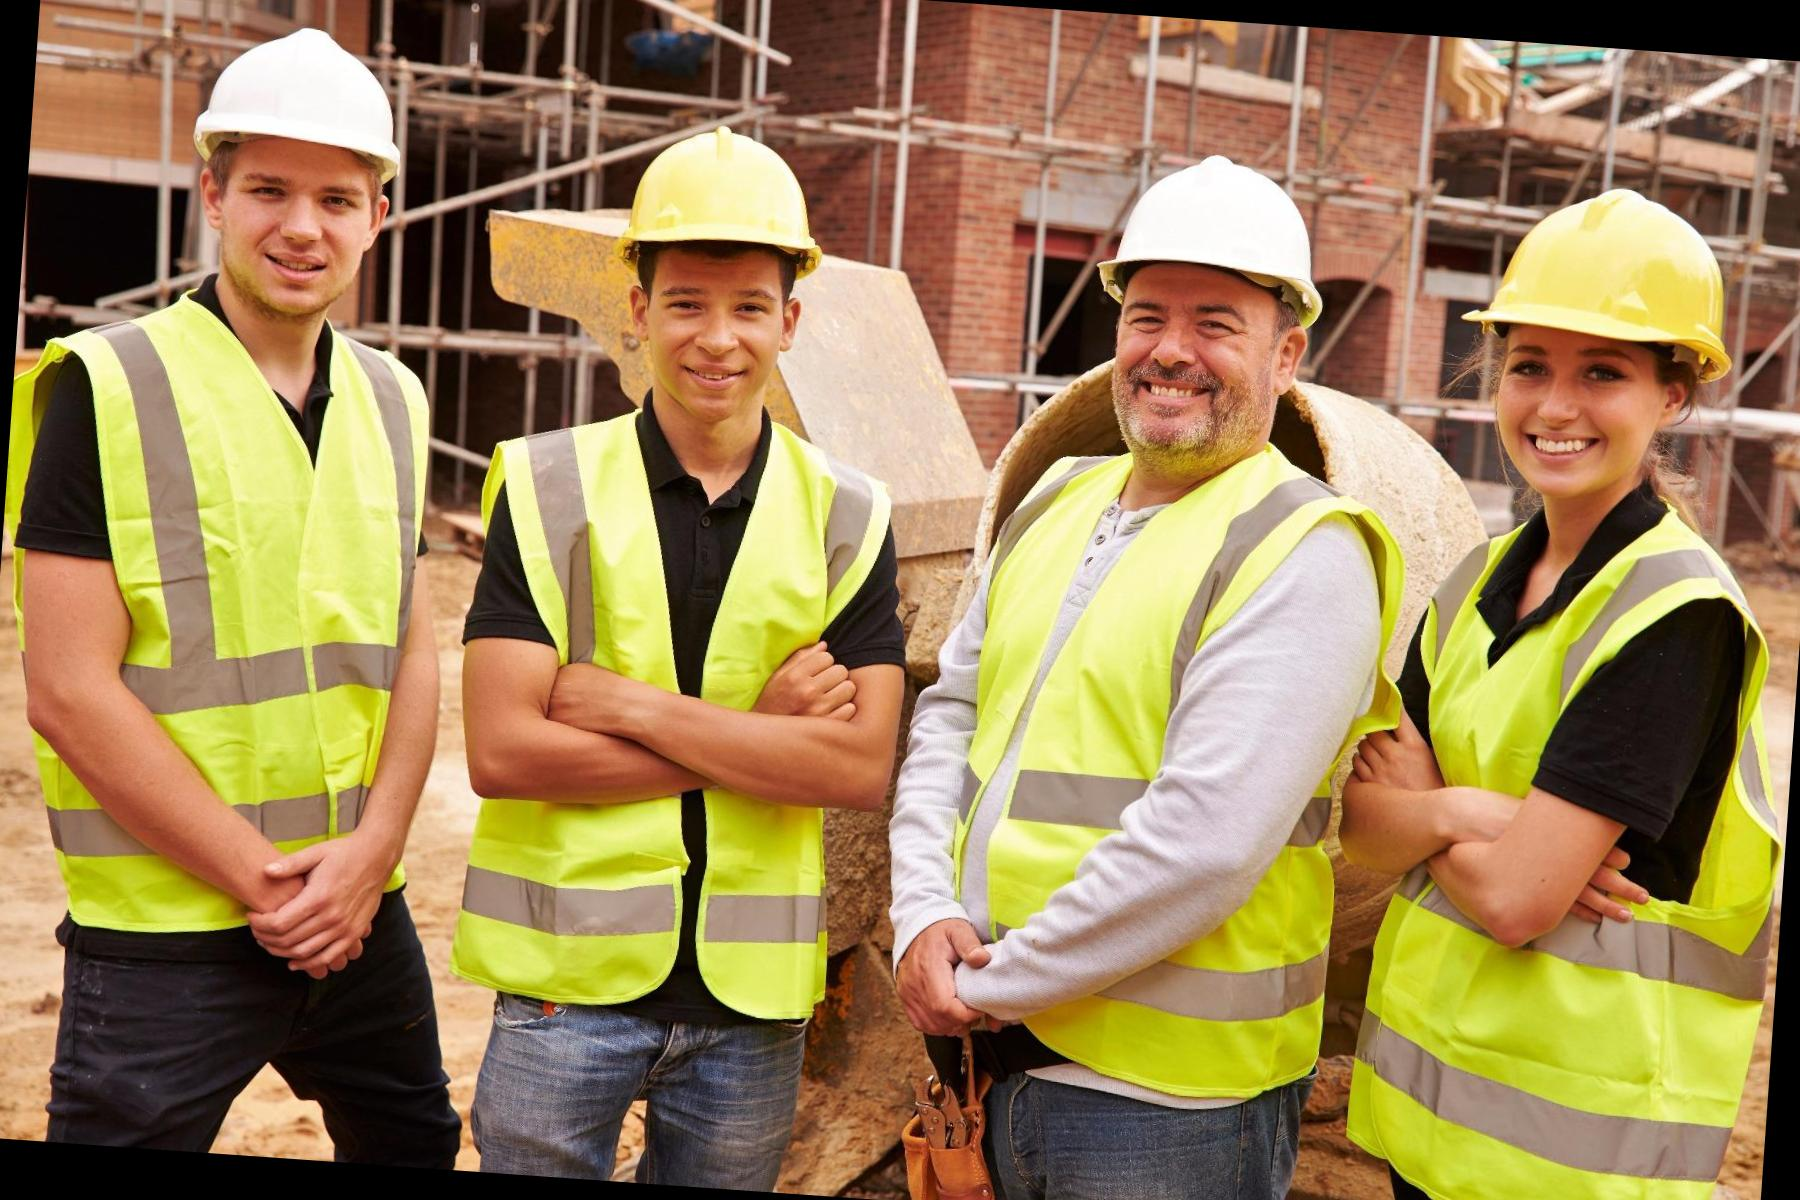Helmet: (1461, 171, 1757, 374), (1089, 150, 1337, 316), (181, 20, 430, 185), (604, 126, 841, 287)
Vest: (0, 269, 457, 976), (1371, 493, 1800, 1200), (451, 388, 905, 1046), (951, 454, 1392, 1105)
